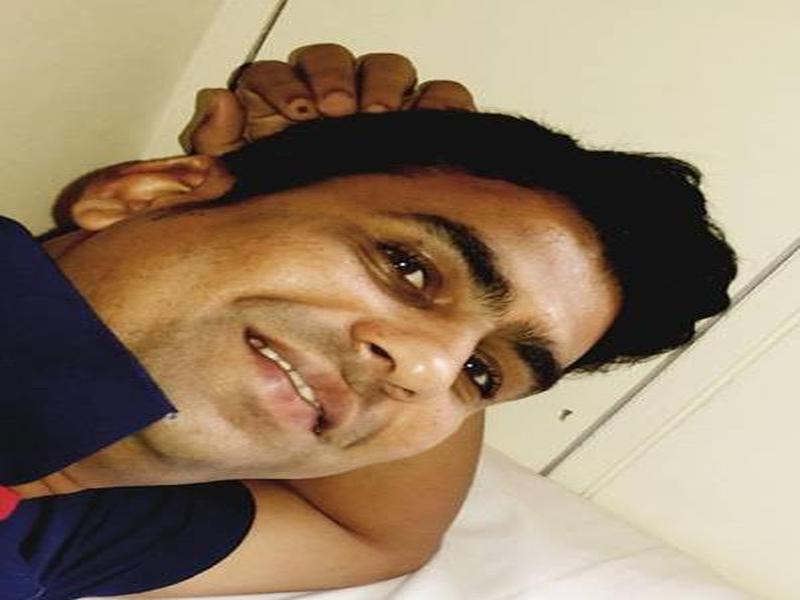without_mask: (78, 167, 623, 472)
